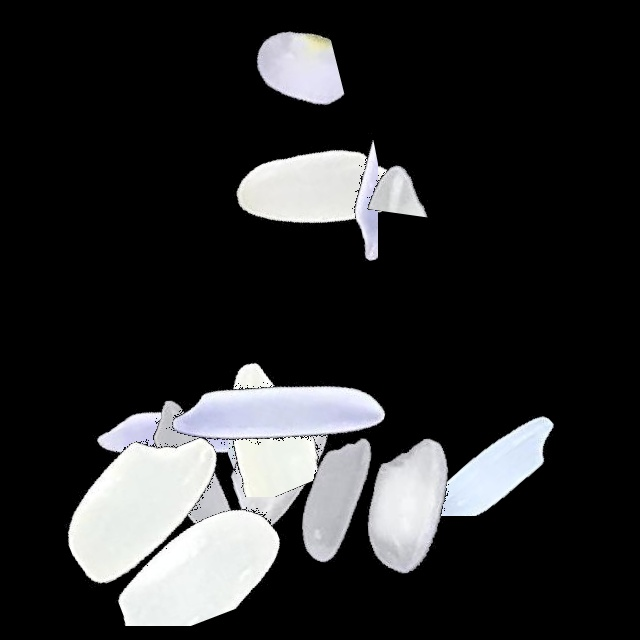Broken: (132, 328, 382, 497), (340, 359, 590, 516), (51, 471, 301, 626), (139, 3, 389, 151), (355, 37, 457, 287), (278, 43, 378, 293), (228, 321, 311, 571)
Full: (61, 313, 311, 563), (69, 344, 319, 594), (159, 338, 409, 588), (194, 63, 444, 313), (282, 382, 532, 632), (17, 377, 267, 627), (154, 287, 404, 537), (212, 376, 462, 626)
